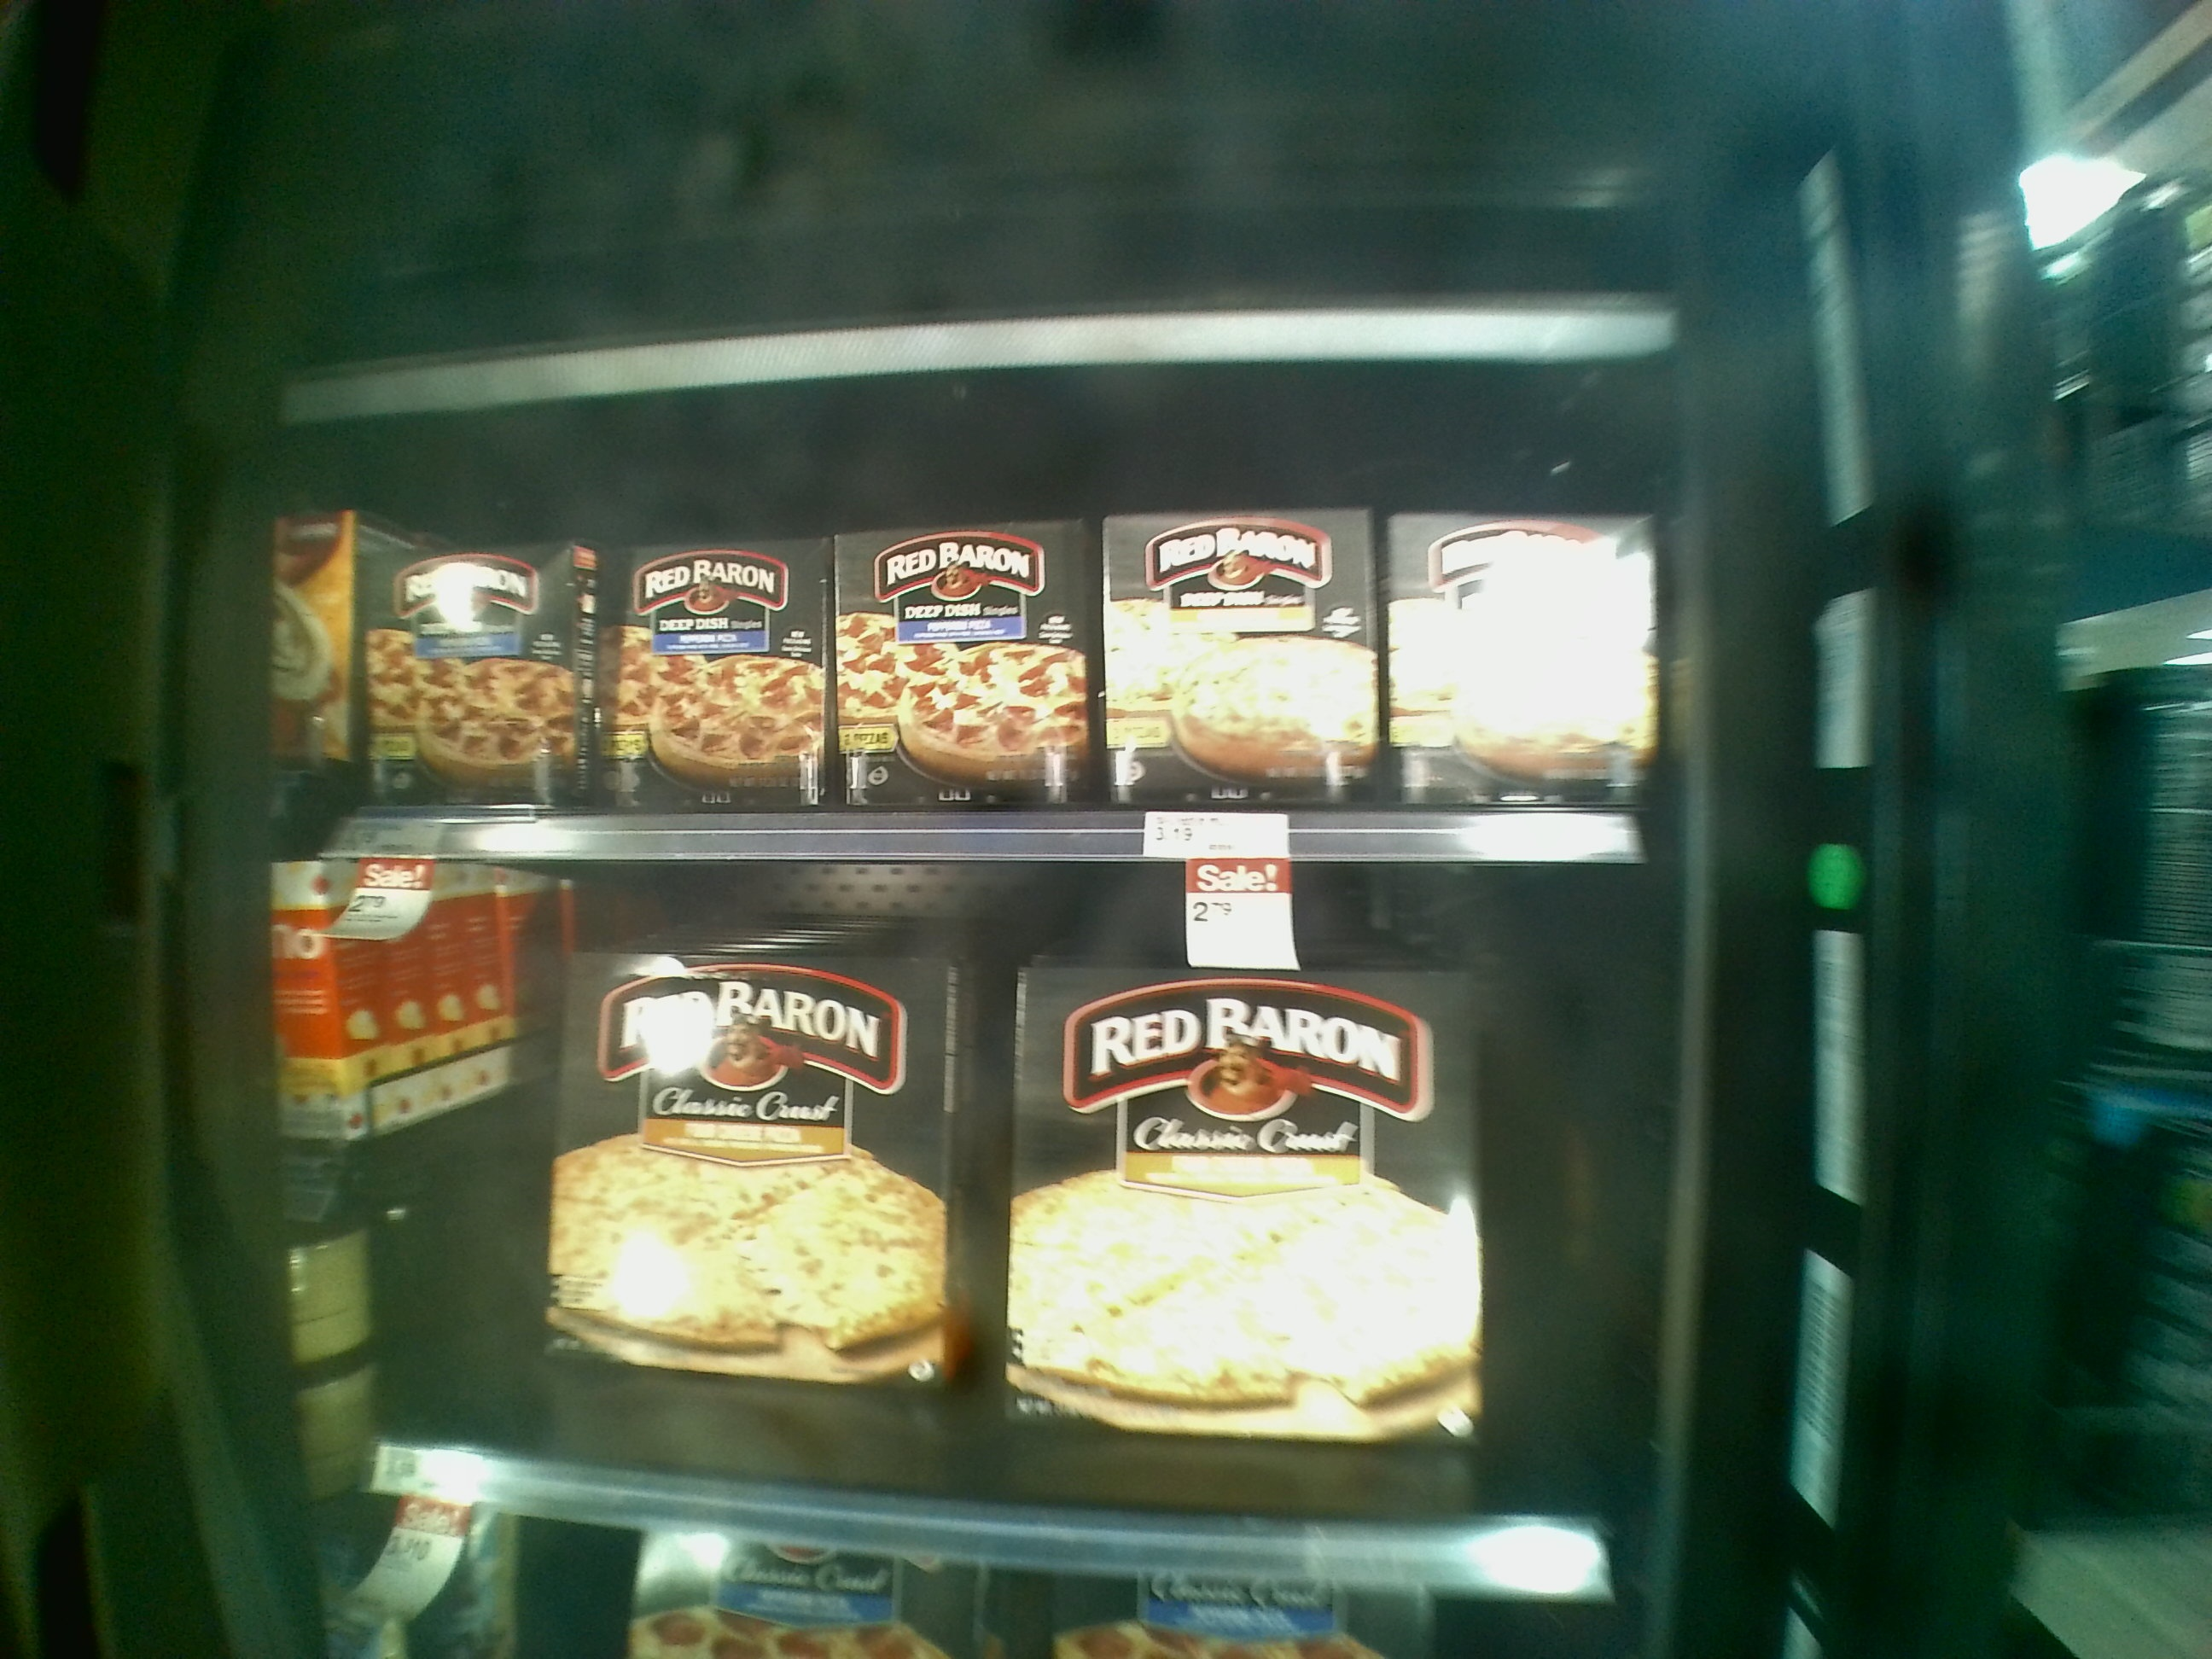shelf: (371, 856, 1639, 1607), (324, 415, 1663, 866)
